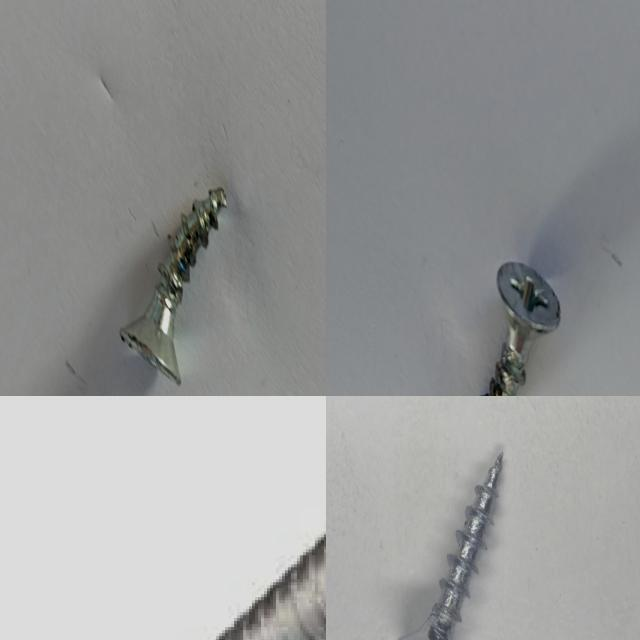Screw: (119, 187, 227, 385), (398, 452, 502, 640), (481, 262, 560, 396)
